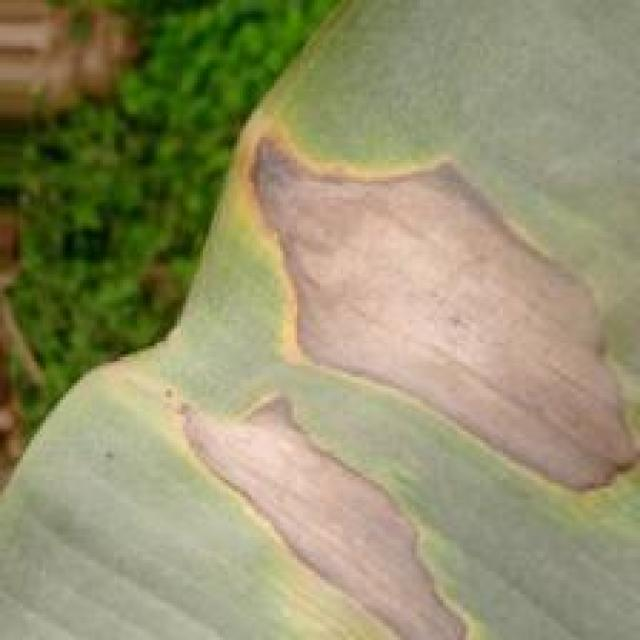Bacterial_spot: (219, 121, 640, 501), (157, 374, 486, 640)
